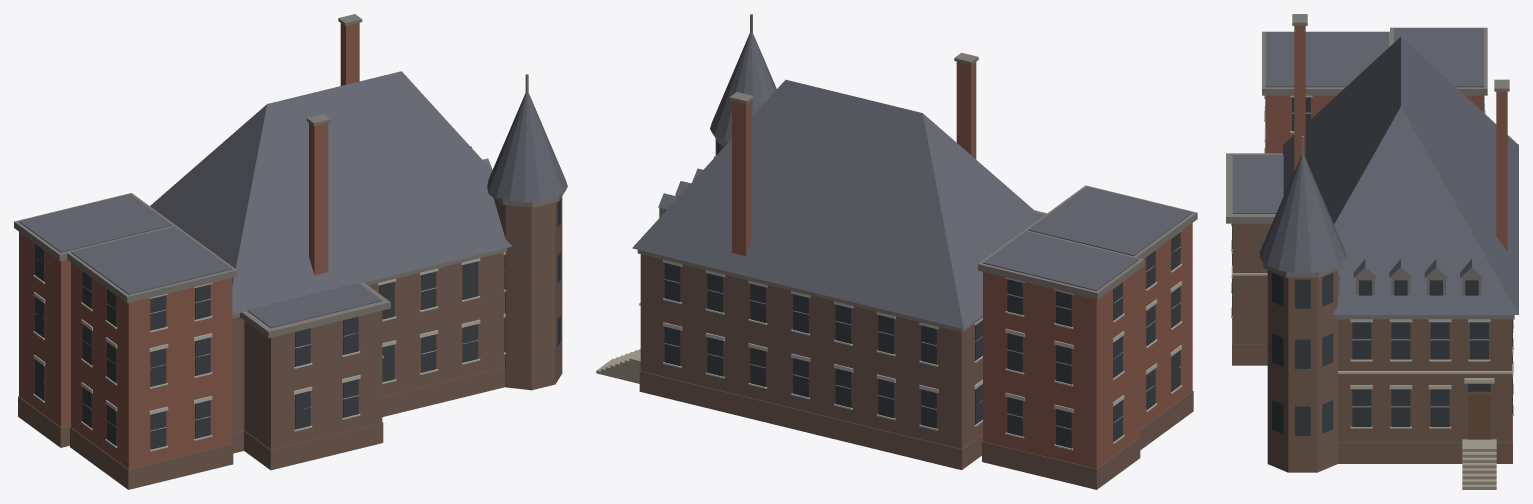
File: moulton_lowden_house_1912_prairie__draft_1904.glb
3 renders of one model, left to right at view 1: azimuth 30°, elevation 25°; view 2: azimuth 150°, elevation 25°; view 3: azimuth 270°, elevation 25°, orthographic. The views are drawn at different scales.
Visible parts, largest first — view 1: moulton_lowden_house_1912_prairie__draft_1904; view 2: moulton_lowden_house_1912_prairie__draft_1904; view 3: moulton_lowden_house_1912_prairie__draft_1904.
Boxes of the visible parts, box(x1,y1,x2,y2) form: moulton_lowden_house_1912_prairie__draft_1904: box(14, 14, 567, 489); moulton_lowden_house_1912_prairie__draft_1904: box(596, 14, 1197, 489); moulton_lowden_house_1912_prairie__draft_1904: box(1226, 14, 1518, 489).
Bounding box in the file's own units: 31.75 × 19.21 × 15.45.
